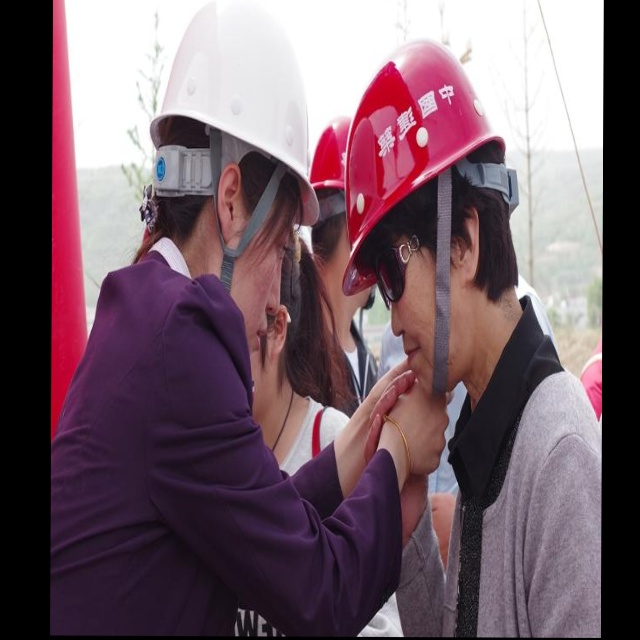Con_Casco: (343, 37, 521, 391), (149, 0, 321, 301)
